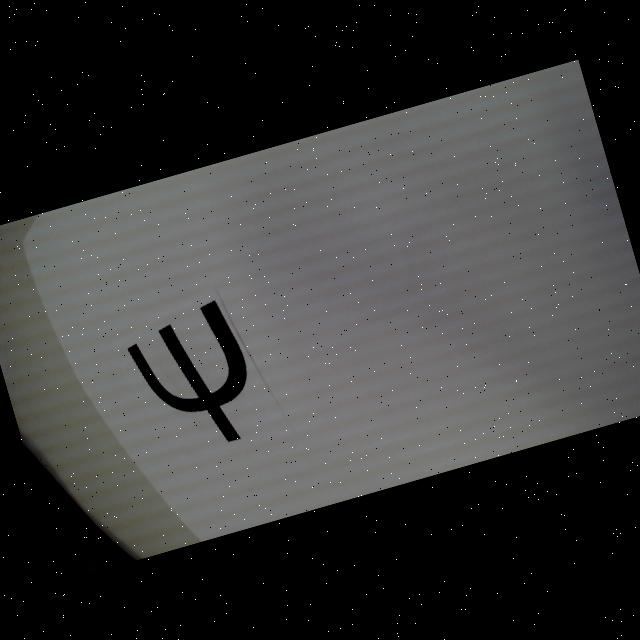PSI: (121, 296, 265, 460)
